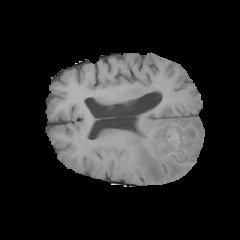glioma: (132, 114, 202, 182)
